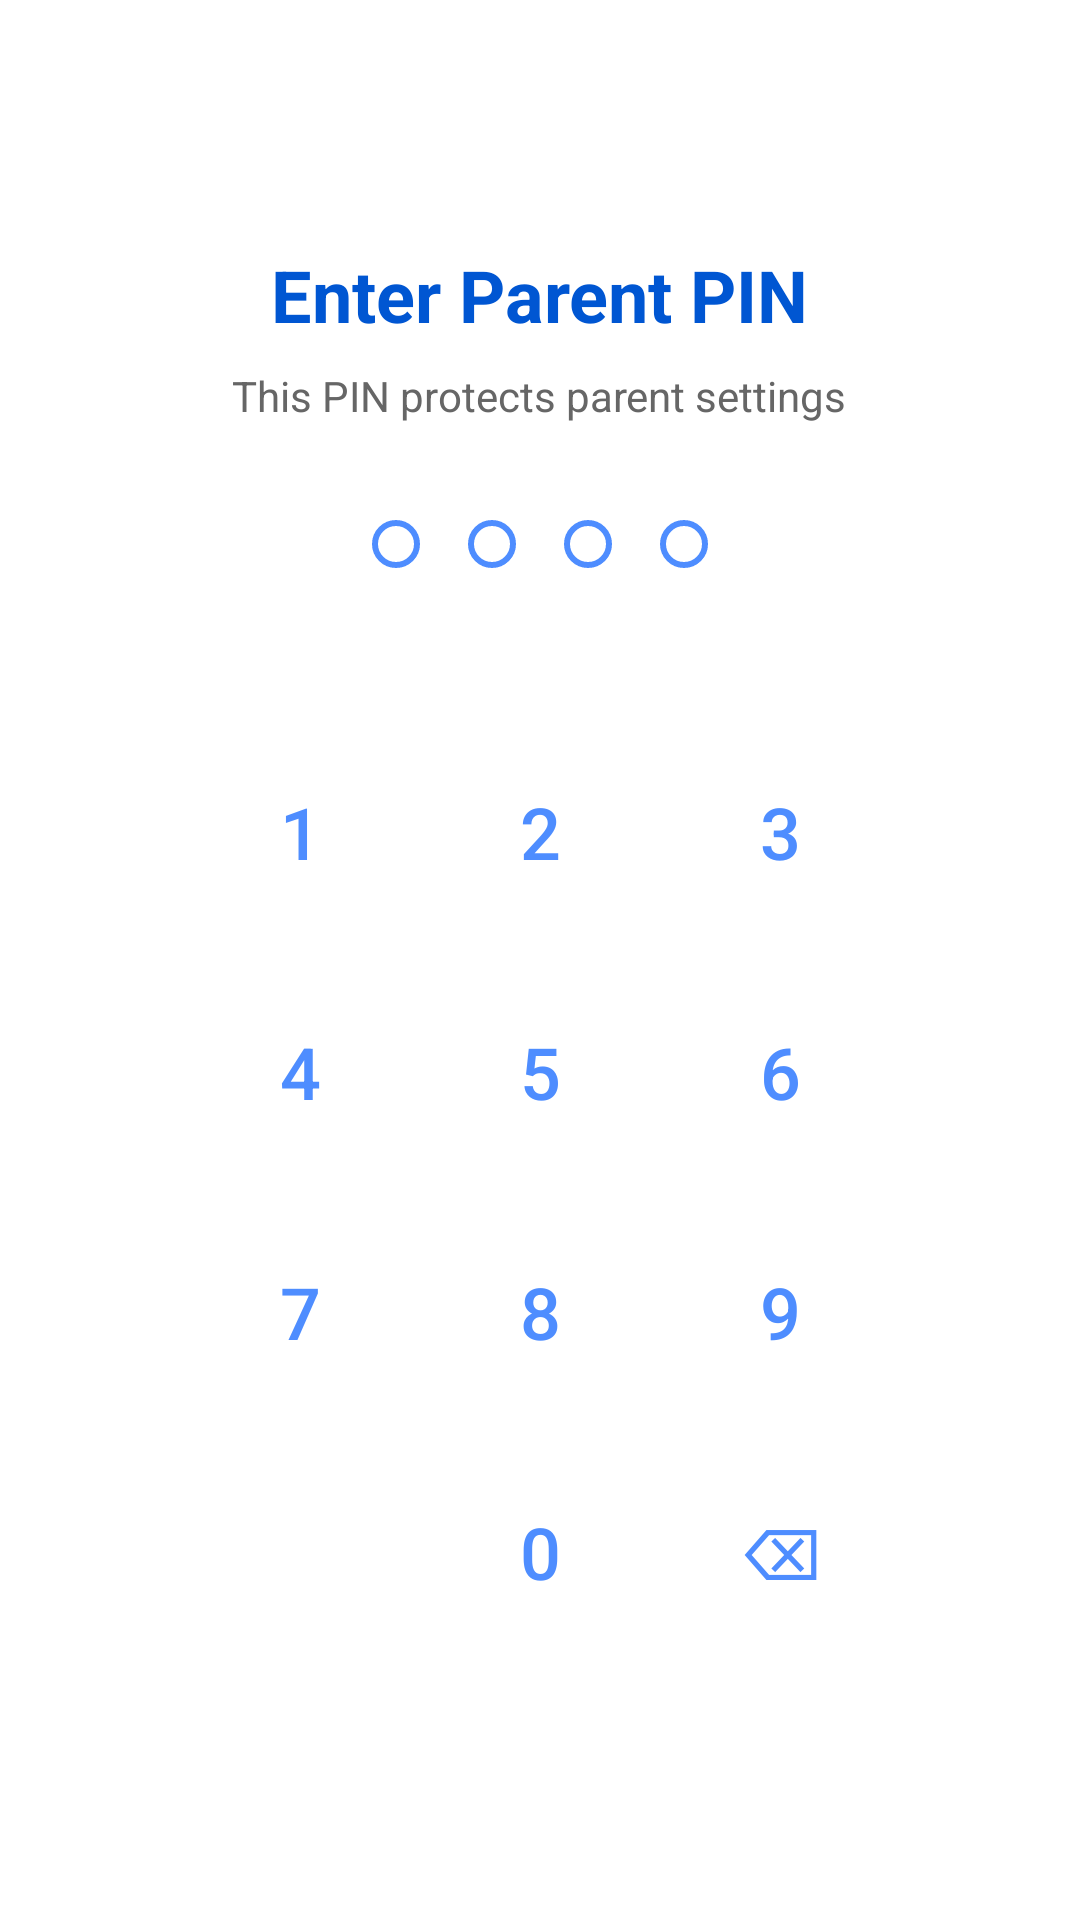

Locate icon controls on the screen. Image size 1080px×1920px, boxes as (x1, y1, x2, y2).
pin dot empty: (372, 520, 420, 568), (468, 520, 516, 568), (564, 520, 612, 568), (660, 520, 708, 568)
